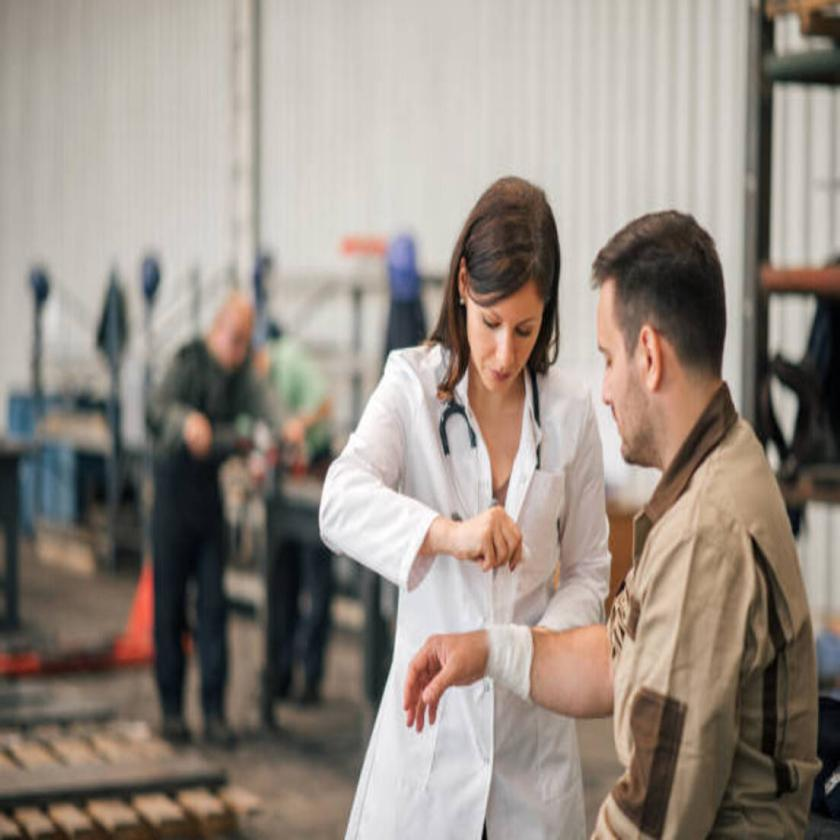Sin_casco: (588, 205, 732, 496), (456, 172, 561, 408)
